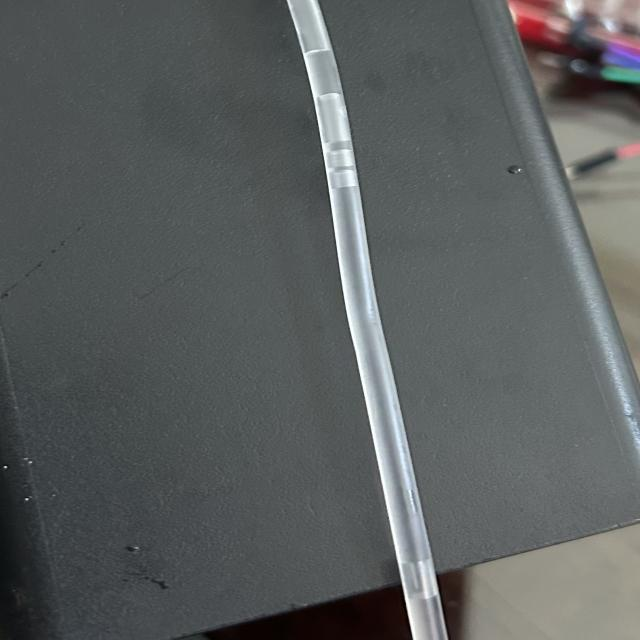bubble: (289, 0, 349, 55), (316, 84, 367, 144), (318, 151, 376, 171), (327, 170, 375, 194)
